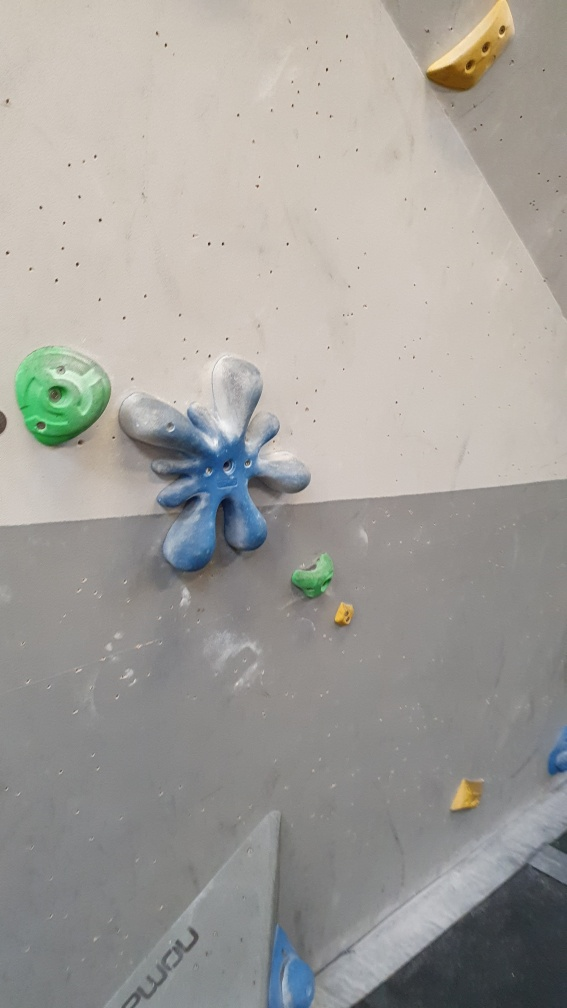Jug: (14, 340, 112, 456), (291, 547, 334, 597)
Octopus Pinch: (115, 349, 310, 578)
Sloper: (270, 926, 318, 1008)
